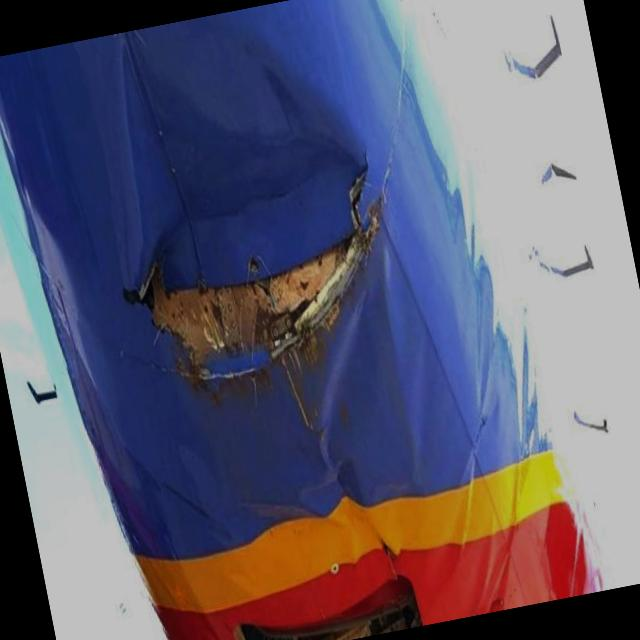crack: (99, 136, 426, 438)
